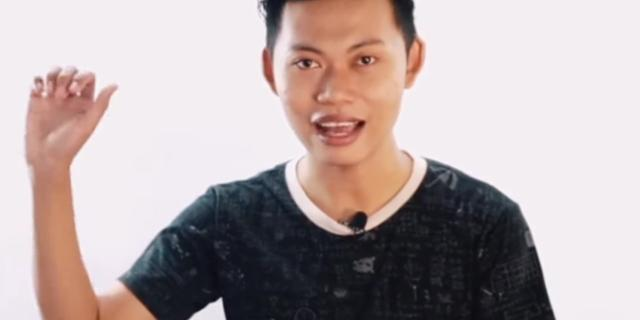A: (17, 54, 122, 174)
